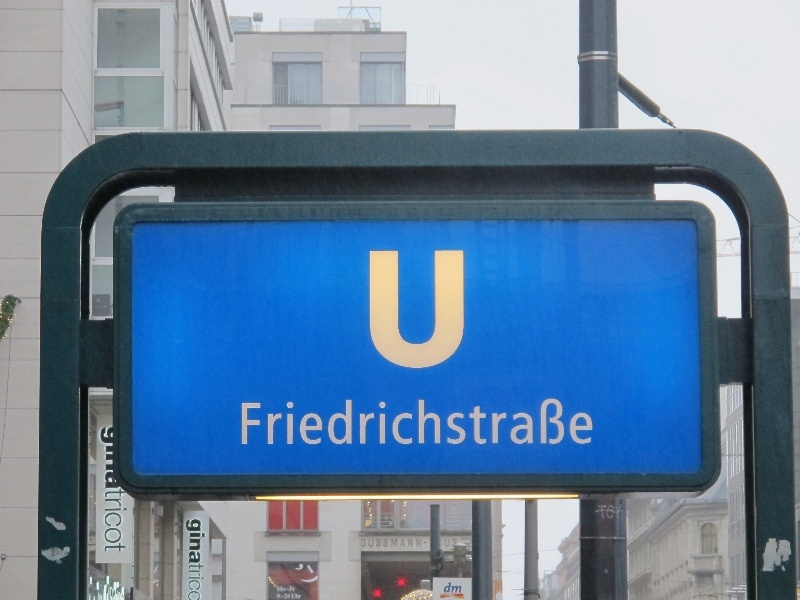text: (369, 246, 384, 373), (385, 246, 400, 373), (401, 246, 416, 373), (417, 246, 432, 373), (433, 246, 448, 373), (449, 246, 464, 373), (98, 424, 112, 557), (113, 424, 125, 557), (193, 517, 207, 600), (241, 395, 256, 450), (257, 395, 272, 450), (273, 395, 288, 450), (289, 395, 304, 450), (305, 395, 320, 450), (321, 395, 336, 450), (337, 395, 352, 450), (353, 395, 368, 450), (369, 395, 384, 450), (385, 395, 400, 450), (401, 395, 416, 450), (417, 395, 432, 450), (433, 395, 448, 450), (449, 395, 464, 450), (465, 395, 480, 450), (481, 395, 496, 450), (497, 395, 512, 450), (513, 395, 528, 450), (529, 395, 544, 450), (545, 395, 560, 450), (561, 395, 576, 450), (577, 395, 592, 450), (184, 517, 192, 600), (365, 246, 368, 373), (465, 246, 468, 373), (609, 504, 622, 522), (593, 395, 597, 450), (596, 504, 608, 522), (449, 582, 464, 596), (369, 538, 384, 551), (385, 538, 400, 551), (401, 538, 416, 551), (417, 538, 432, 551), (433, 538, 448, 551), (449, 538, 458, 551), (238, 395, 240, 450), (360, 538, 368, 551), (277, 586, 288, 594), (292, 593, 304, 600), (276, 594, 288, 600), (289, 586, 295, 594), (445, 582, 448, 596), (289, 594, 292, 600)
